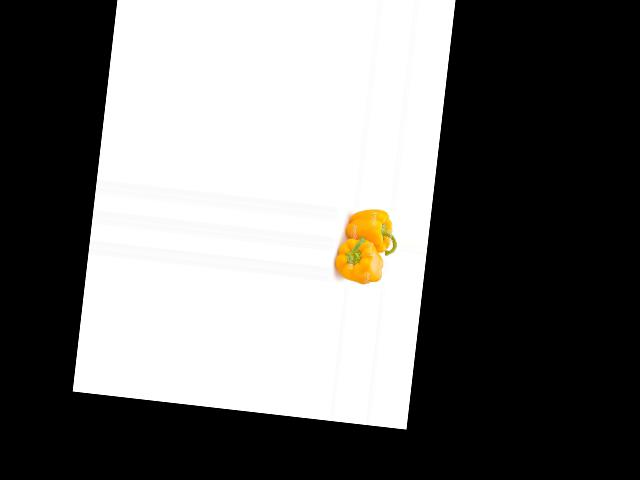bell_pepper: (342, 205, 398, 258)
